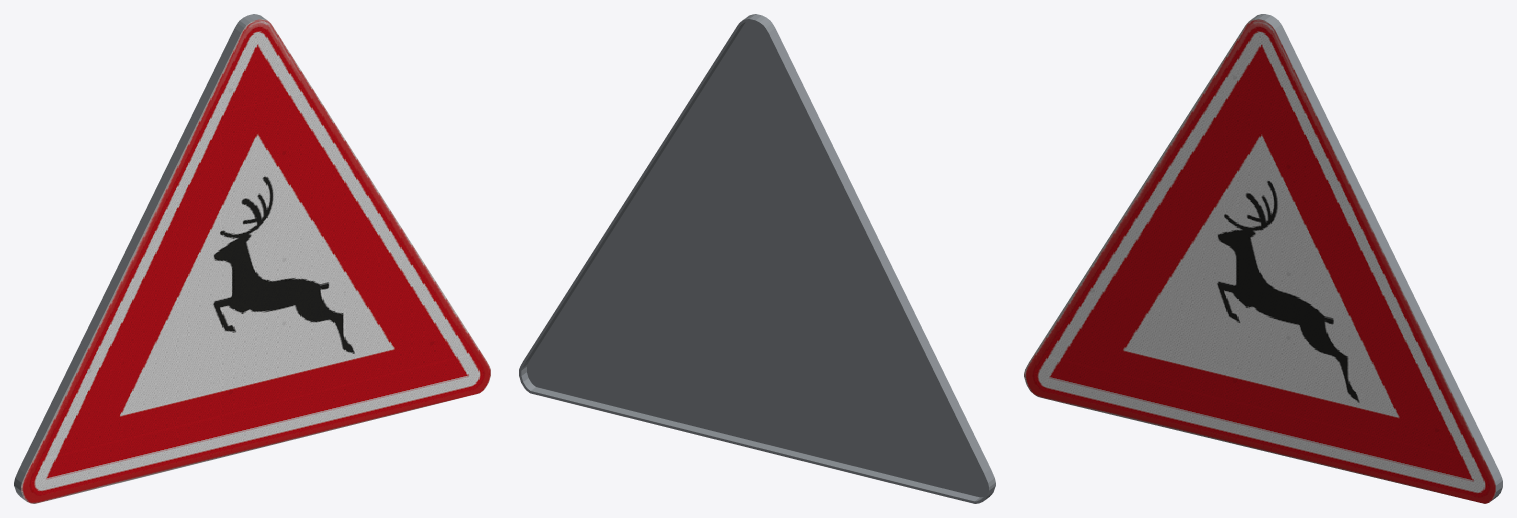
The picture shows the model from 3 angles, left to right: view 1: azimuth 30°, elevation 25°; view 2: azimuth 150°, elevation 25°; view 3: azimuth 330°, elevation 25°; orthographic projection.
Parts seen in each view (by area): view 1: cat_47d2bd618f1f4e1a; view 2: cat_47d2bd618f1f4e1a; view 3: cat_47d2bd618f1f4e1a.
Part boxes in pixels (bbox=[...]): cat_47d2bd618f1f4e1a: bbox=[14, 14, 490, 503]; cat_47d2bd618f1f4e1a: bbox=[519, 14, 995, 503]; cat_47d2bd618f1f4e1a: bbox=[1024, 14, 1502, 503].
Bounding box in the file's own units: 0.6 × 0.015 × 0.5245.
Materials: 2 (1 with a texture image).
